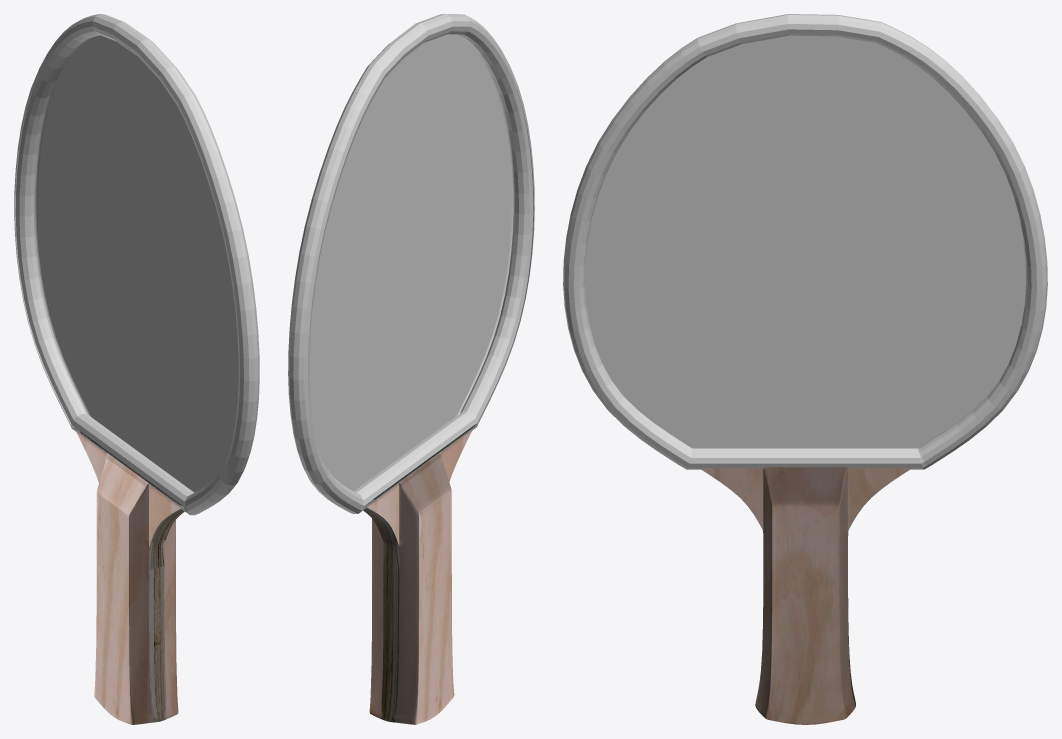
File: paddle_vik_a_frammenti_2.glb
3 views of the same model, side by side, from view 1: azimuth 30°, elevation 25°; view 2: azimuth 150°, elevation 25°; view 3: azimuth 270°, elevation 25° (orthographic). The views are drawn at different scales.
Visible parts, largest first — view 1: face_2.002, bordi.004, manico.002, face_1.002; view 2: face_2.002, bordi.004, manico.002, face_1.002; view 3: face_1.002, bordi.004, manico.002.
Boxes of the visible parts, x1,y1,x2,y2 form: face_2.002: (35, 35, 238, 492); bordi.004: (14, 14, 259, 515); manico.002: (75, 428, 184, 724); face_1.002: (15, 35, 181, 506); face_2.002: (309, 34, 513, 491); bordi.004: (288, 14, 534, 514); manico.002: (363, 424, 475, 724); face_1.002: (367, 39, 534, 504); face_1.002: (584, 35, 1026, 447); bordi.004: (563, 14, 1047, 469); manico.002: (699, 467, 911, 724).
Size of the model in its own units: 2.11 by 29.15 by 18.34.
1 material, 1 textured.
